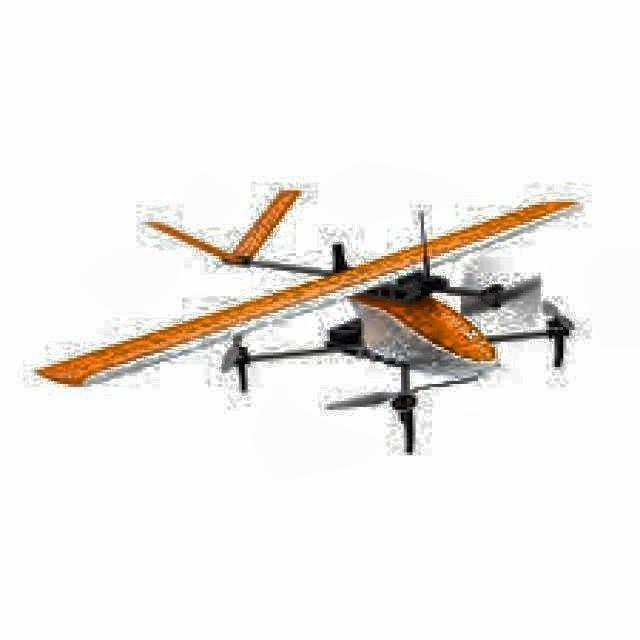iha: (18, 174, 600, 472)
